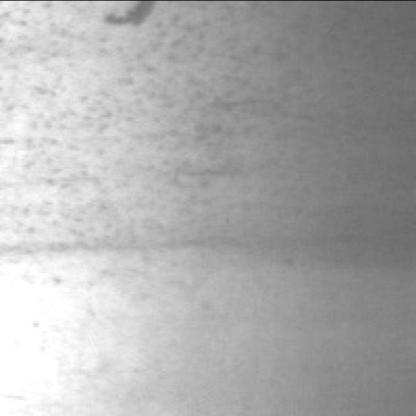pitted_surface: (0, 4, 354, 262)
